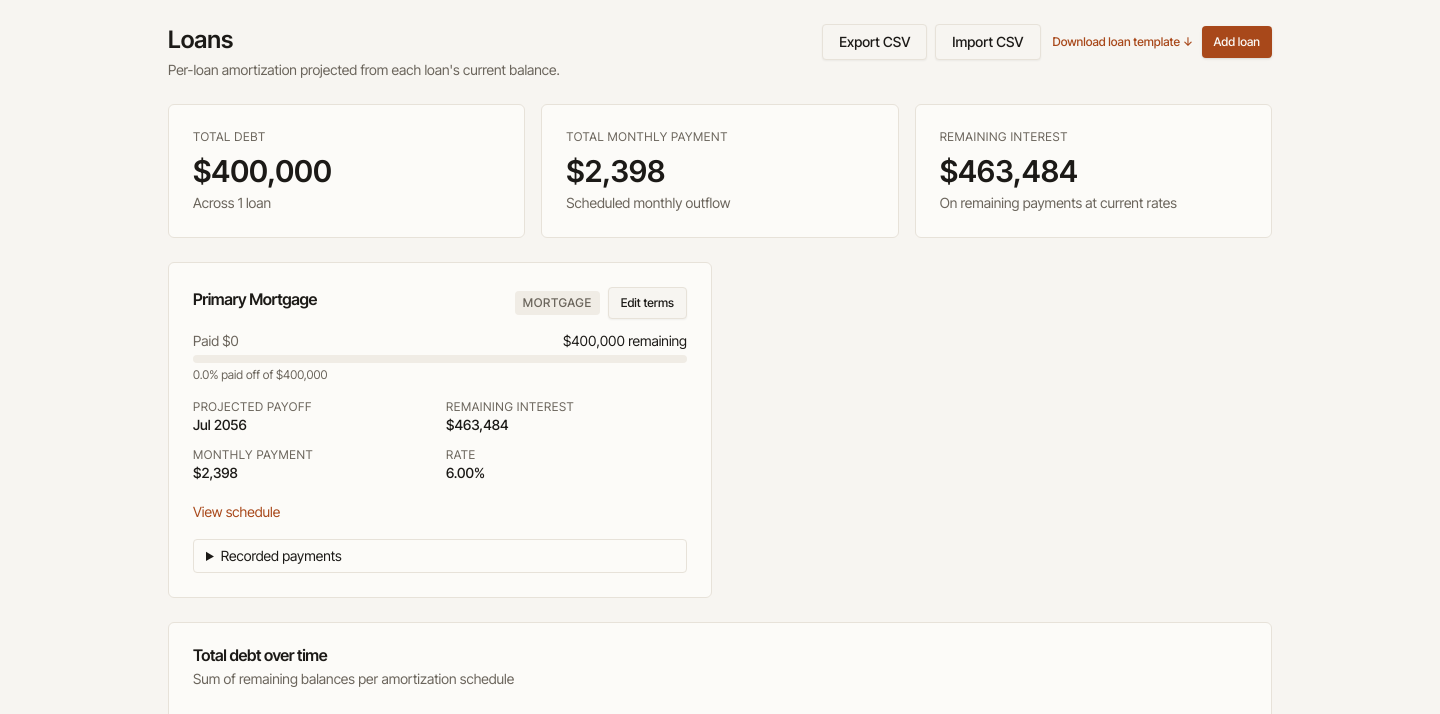
Scenario: Recorded loan payments (Wave C C8/IN-G6) › Wave C review (MINOR 4): an unloaded history shows Loading, never the definitive empty copy
Click the heading "Recorded payments": (281, 556) [221,547,342,564]
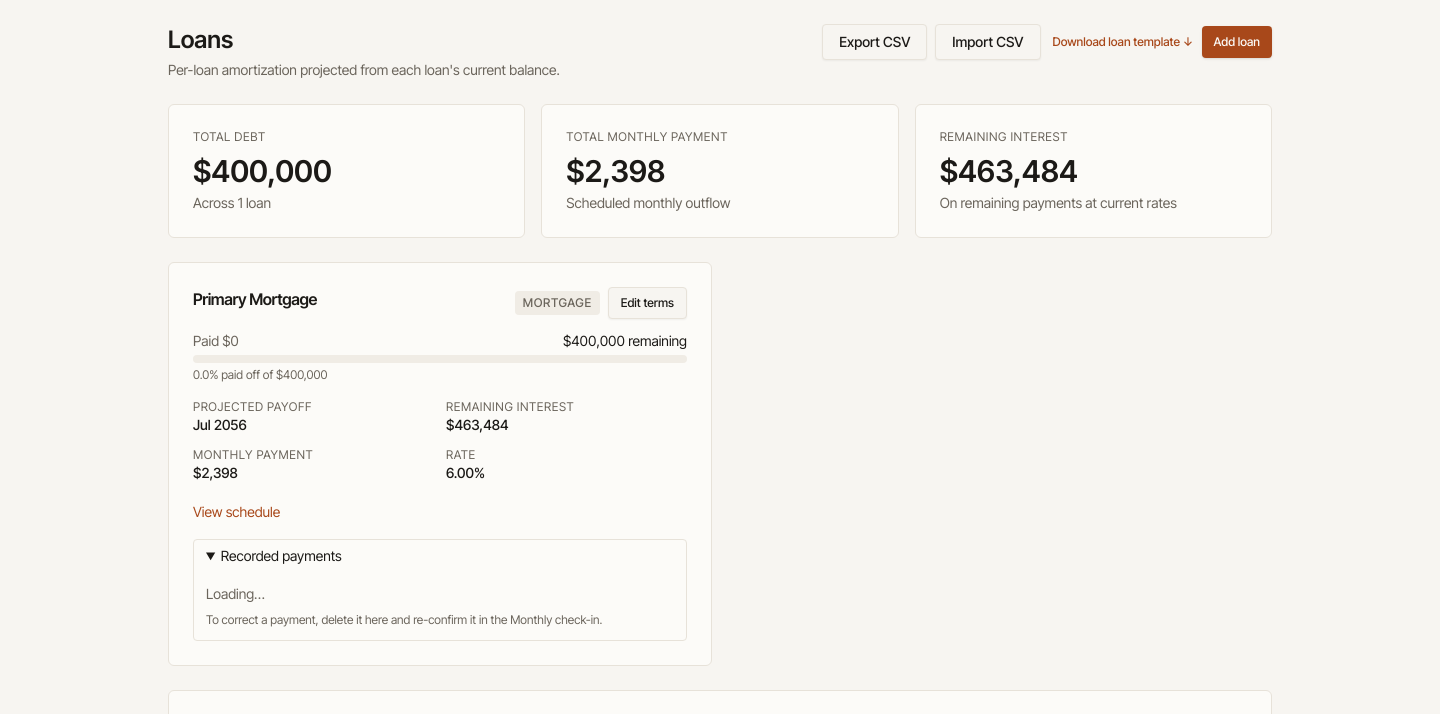
Now the text "Loading…" is shown, box [206,585,265,602]
